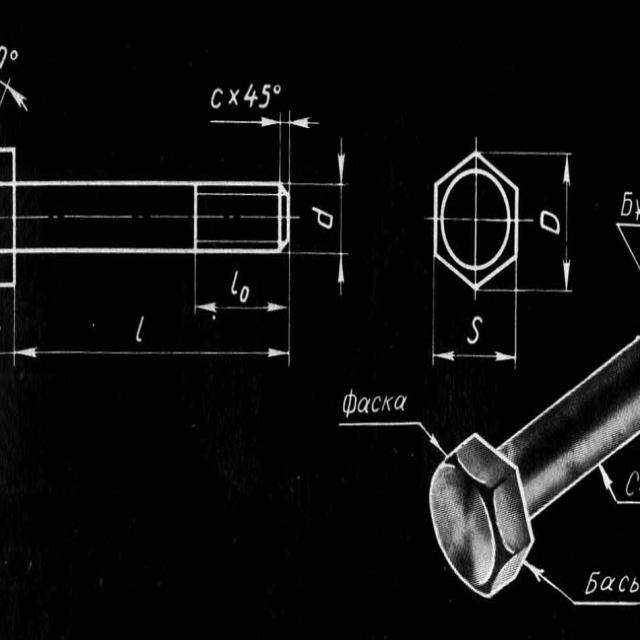marking_line: (0, 290, 294, 366), (291, 132, 352, 299), (519, 149, 575, 295), (191, 256, 293, 325), (429, 294, 521, 369), (211, 113, 322, 175), (0, 77, 31, 144)
numeric: (243, 83, 259, 107), (259, 83, 271, 110), (0, 44, 9, 72), (238, 285, 250, 305)
special_symbol: (273, 83, 282, 94)
